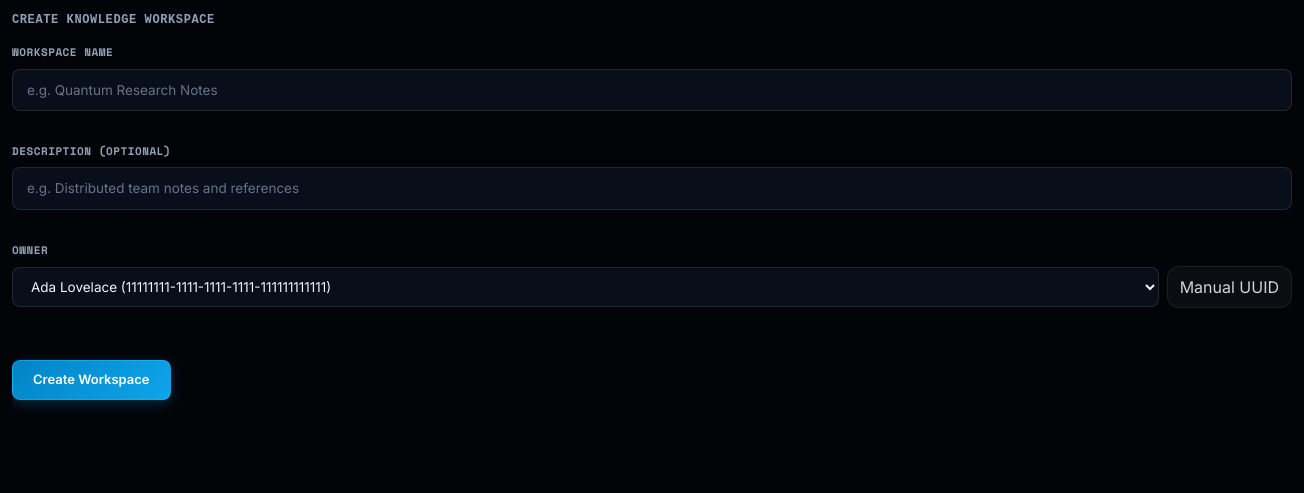
Test case: Workstream A Component Test Suite (§18, §22.2) › WorkspaceCreateForm › handles USER_NOT_FOUND error from backend
Type "Orphaned Workspace" into the field with test id "workspace-name-input".
click(652, 90); type("Orphaned Workspace")  # box [12,68,1292,111]
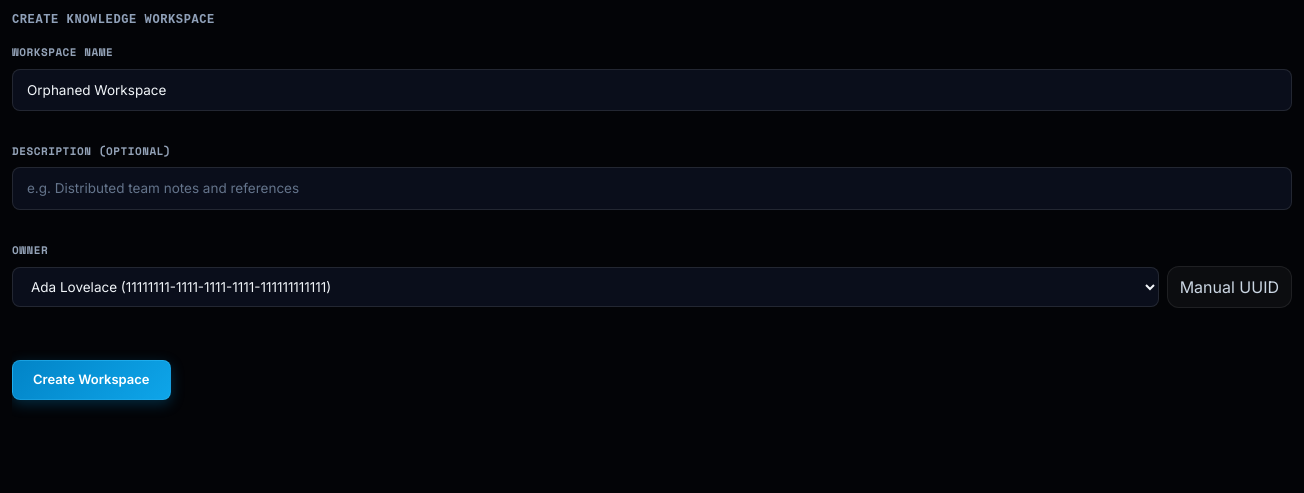
Click the button with test id "workspace-create-submit".
click(91, 380)  # box [12,360,171,400]
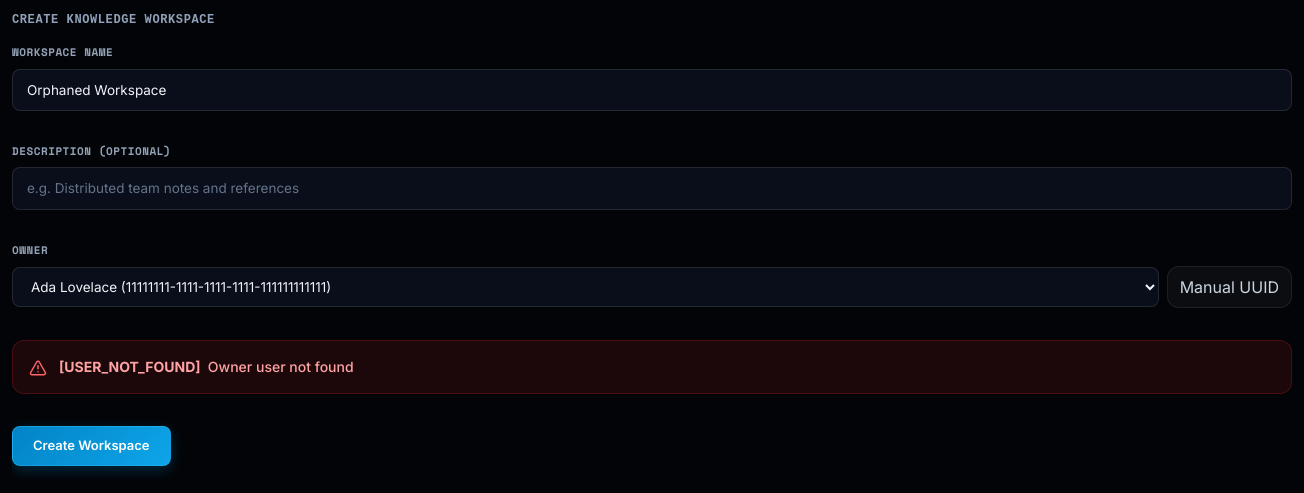
Check: the element with test id "error-state" reads "[USER_NOT_FOUND] Owner user not found", box [12,340,1292,394]
